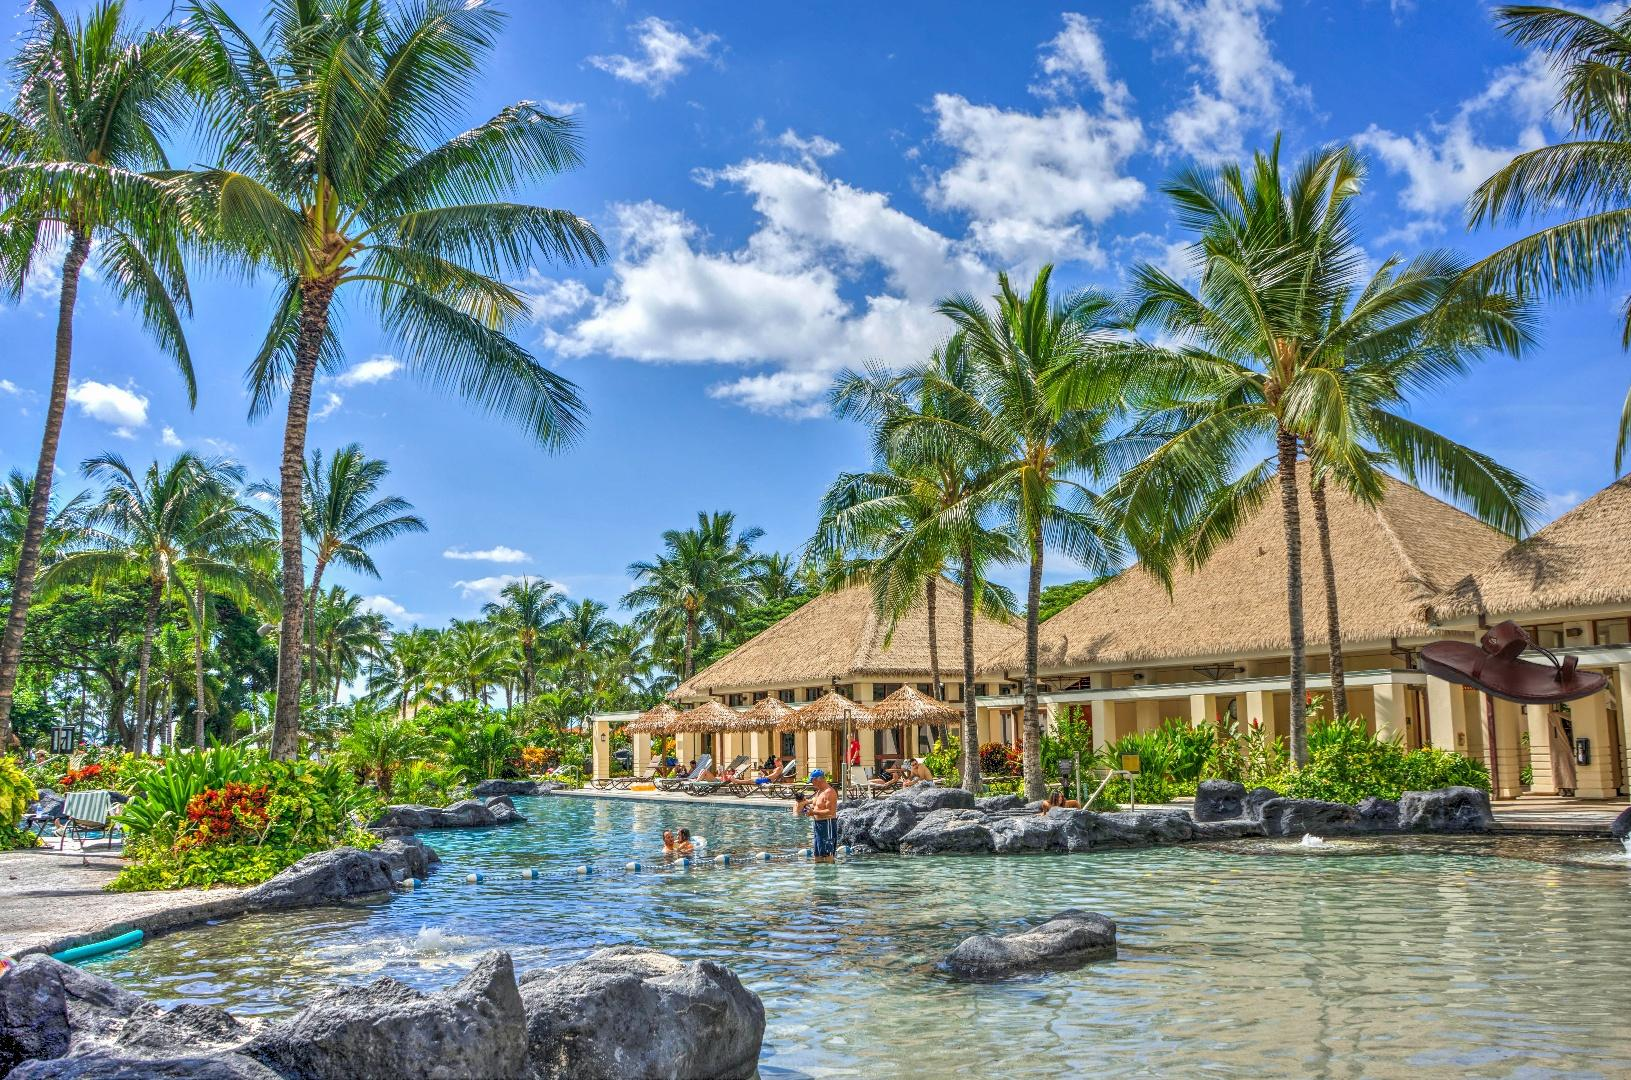shoes: (1416, 617, 1611, 708)
